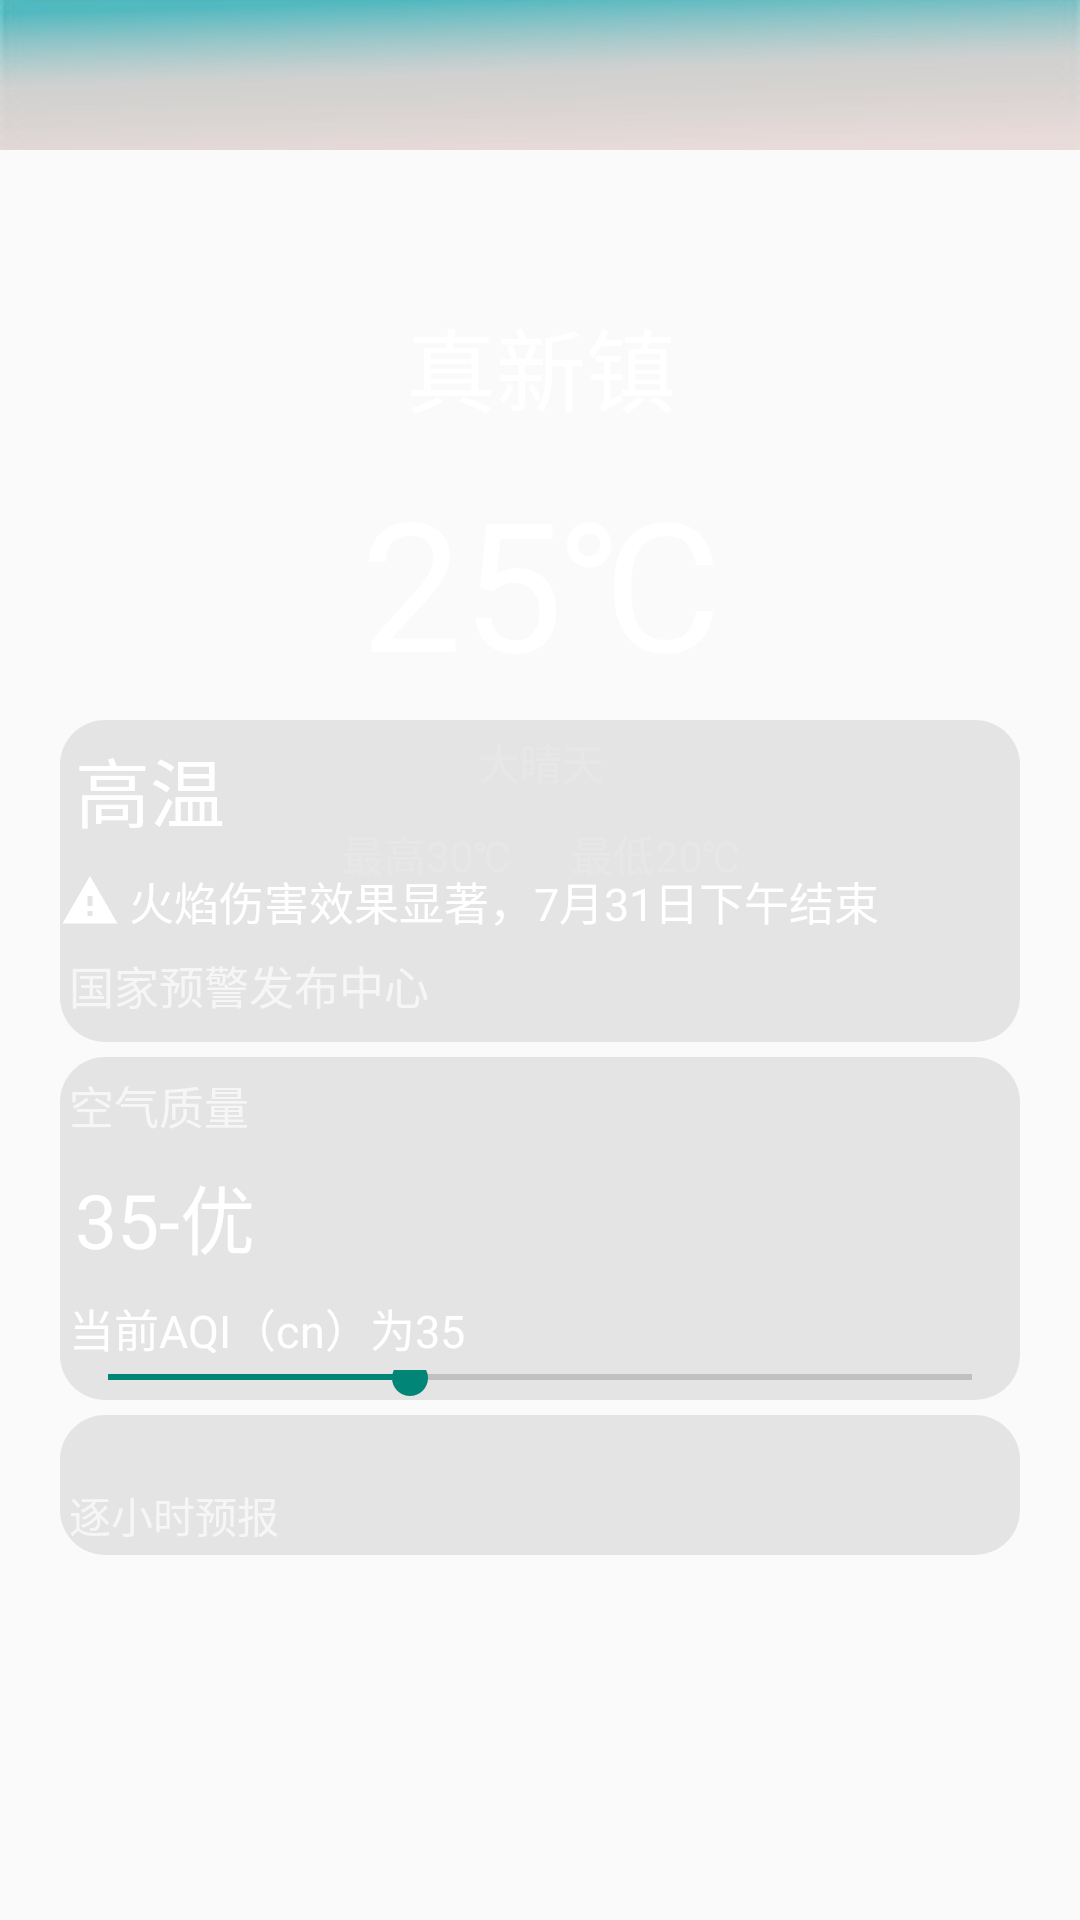

Where to tap for icons on this 1080px x 1920px app screen, as [x,y]:
warning: [90,900]
